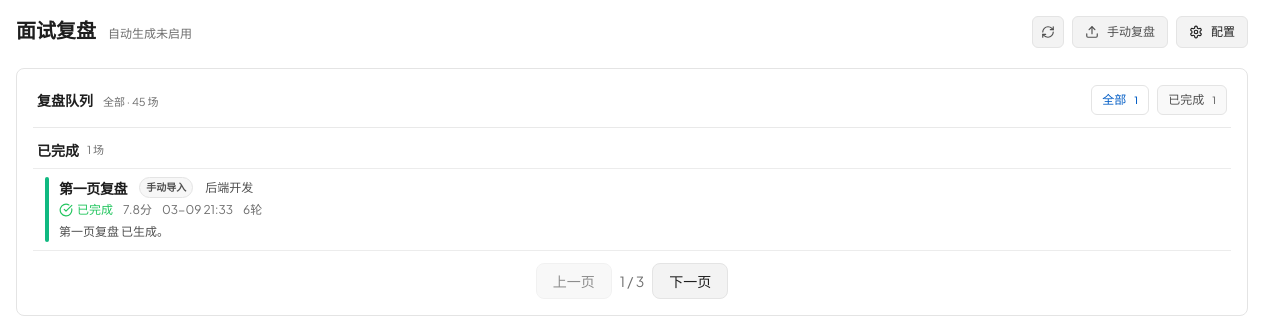
Test: ReviewSessionList › keeps the newest page when older pagination requests finish later
Check: the heading "第一页复盘" is shown, box [59, 178, 127, 198]
Click the button "下一页" at (690, 280), box [652, 262, 728, 298]
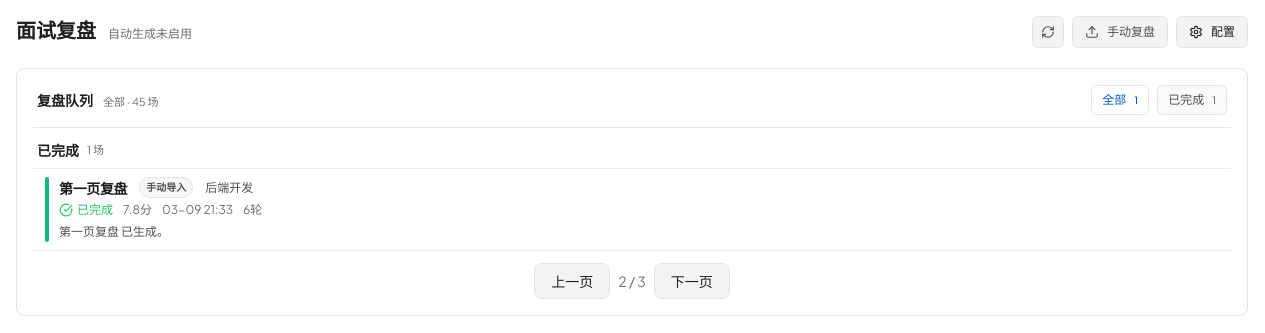
Check: the text "2 / 3" is shown, box [618, 270, 646, 290]
Click the button "下一页" at (692, 280), box [654, 262, 730, 298]
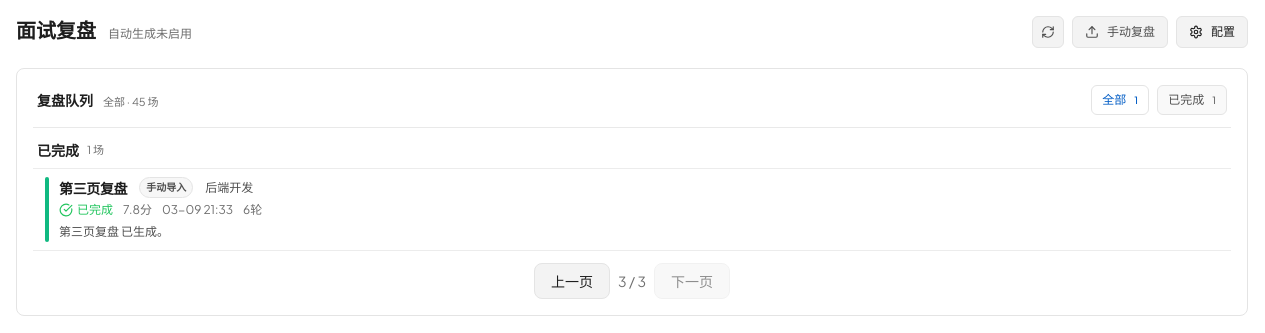
Check: the heading "第三页复盘" is shown, box [59, 178, 127, 198]
